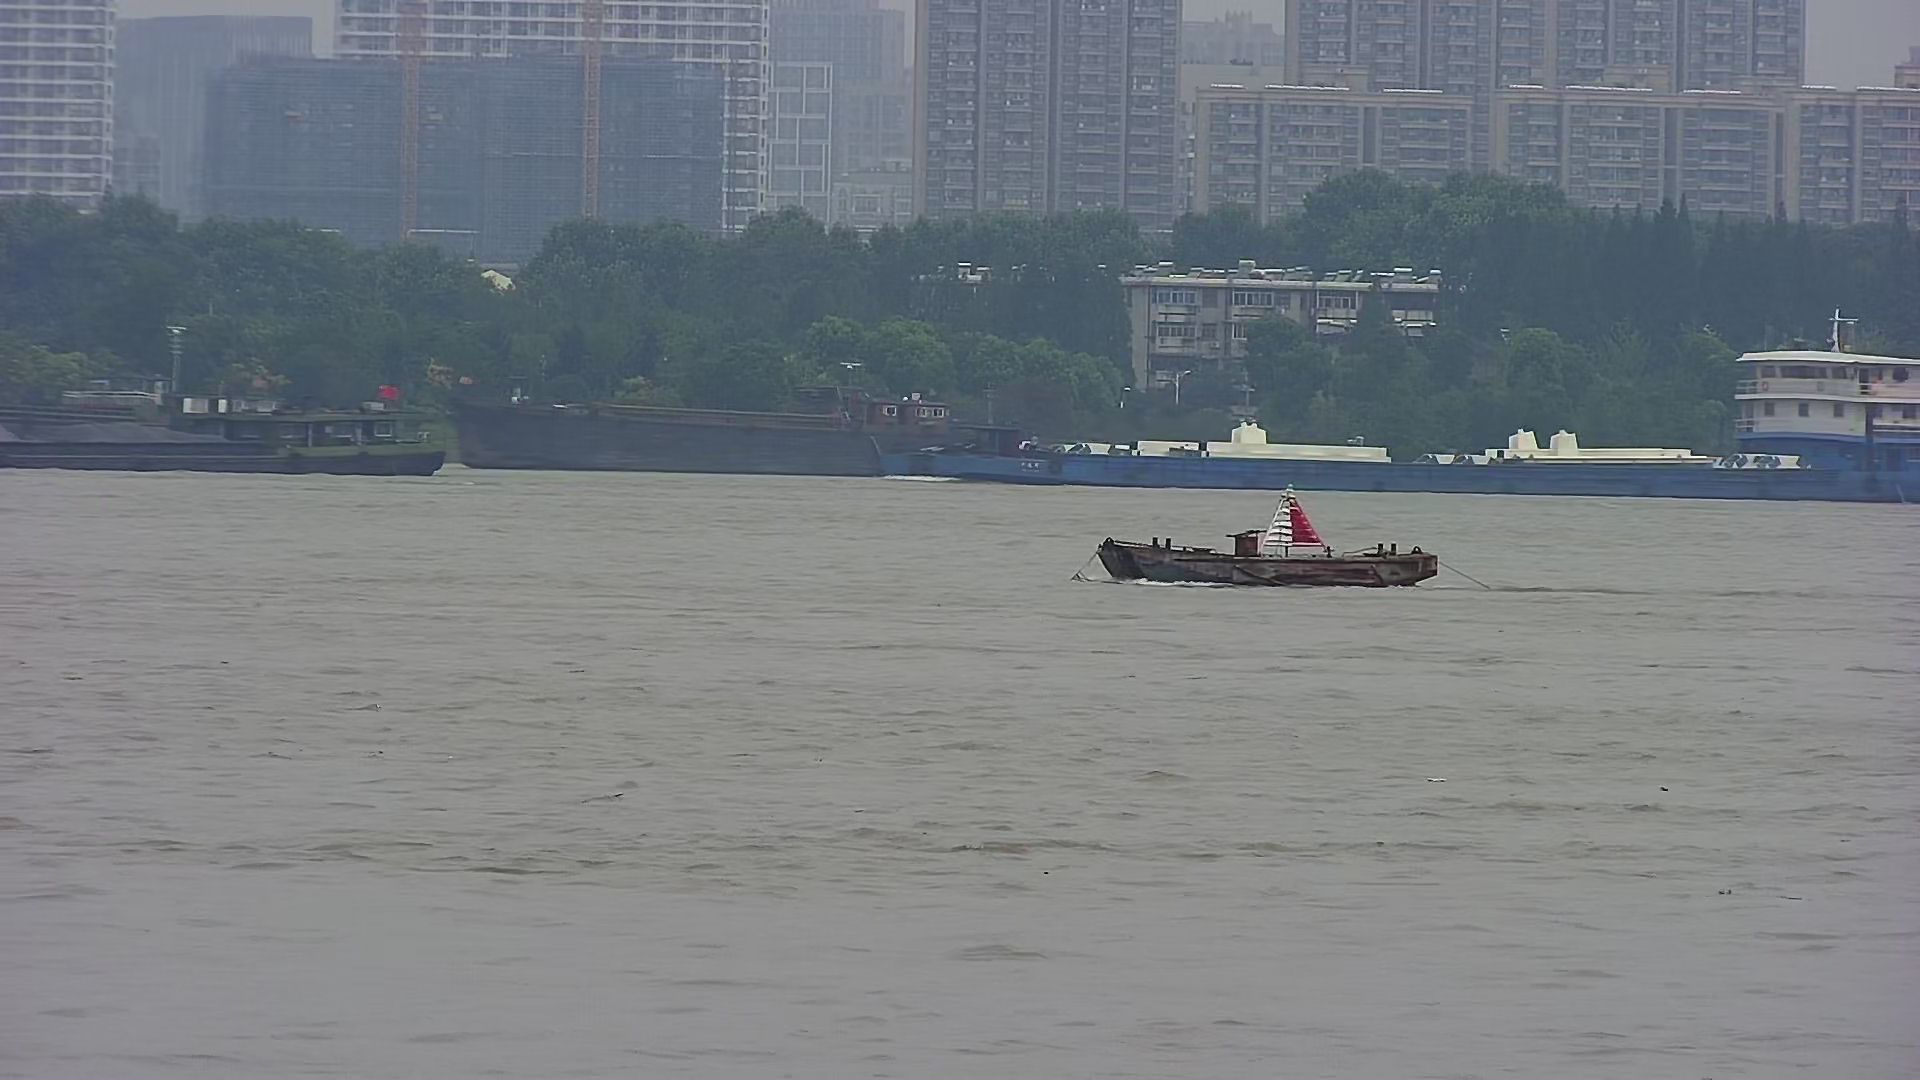boat: (1087, 485, 1443, 593)
ship: (953, 338, 1913, 512), (454, 380, 951, 483), (3, 404, 446, 481)
